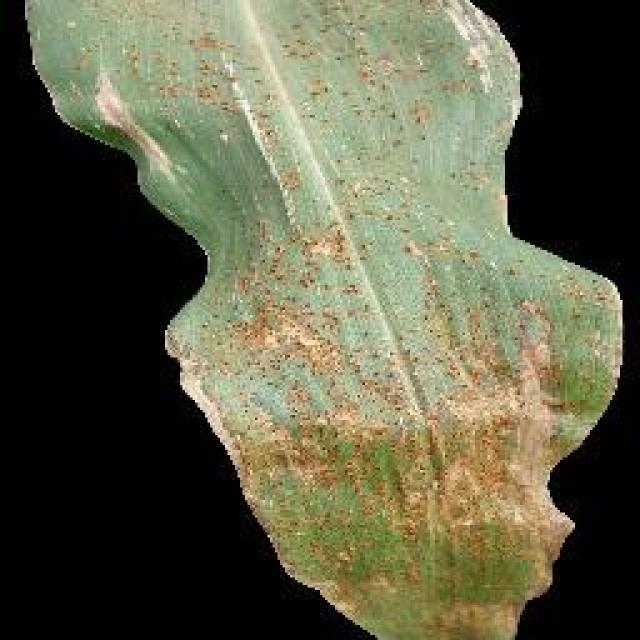Corn Common Rust: (126, 0, 563, 573)
